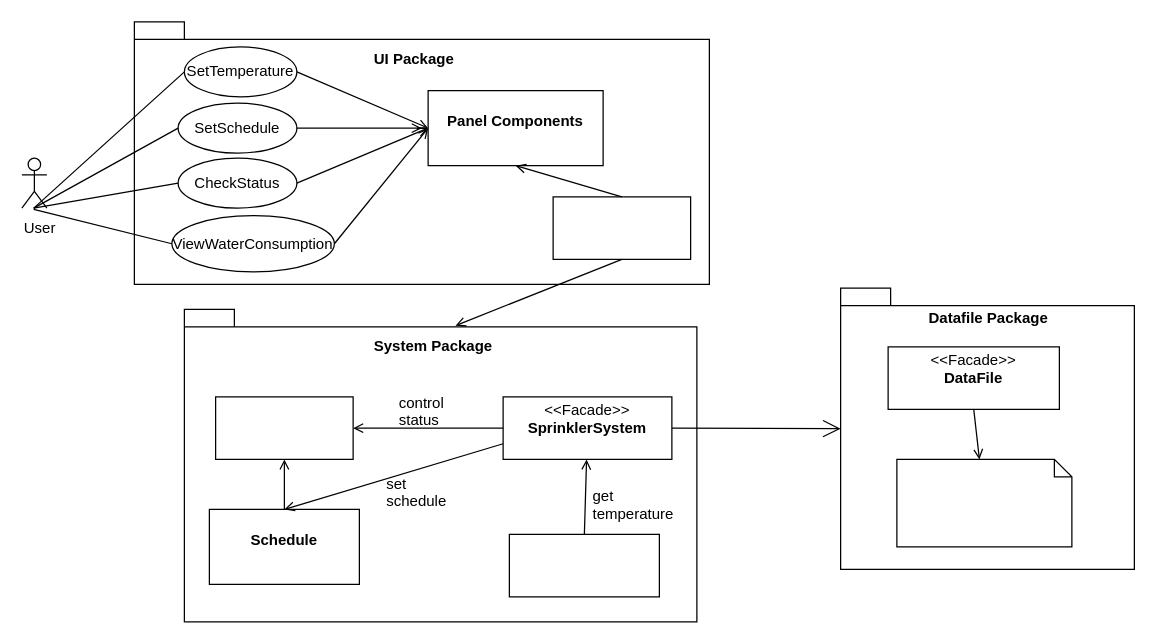
Image size: 1156x644. Some labels were removed from this diagram. Here are the shapes that lost their labels. From the top down, the box of each, then its label:
(552, 196, 691, 259): <<Facade>> UI
(214, 396, 353, 459): Sprinkler
(896, 458, 1072, 547): WaterConsumption File
(508, 533, 659, 597): Sensor
